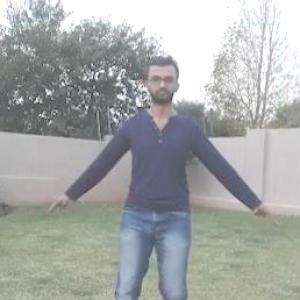land: (13, 29, 299, 299)
